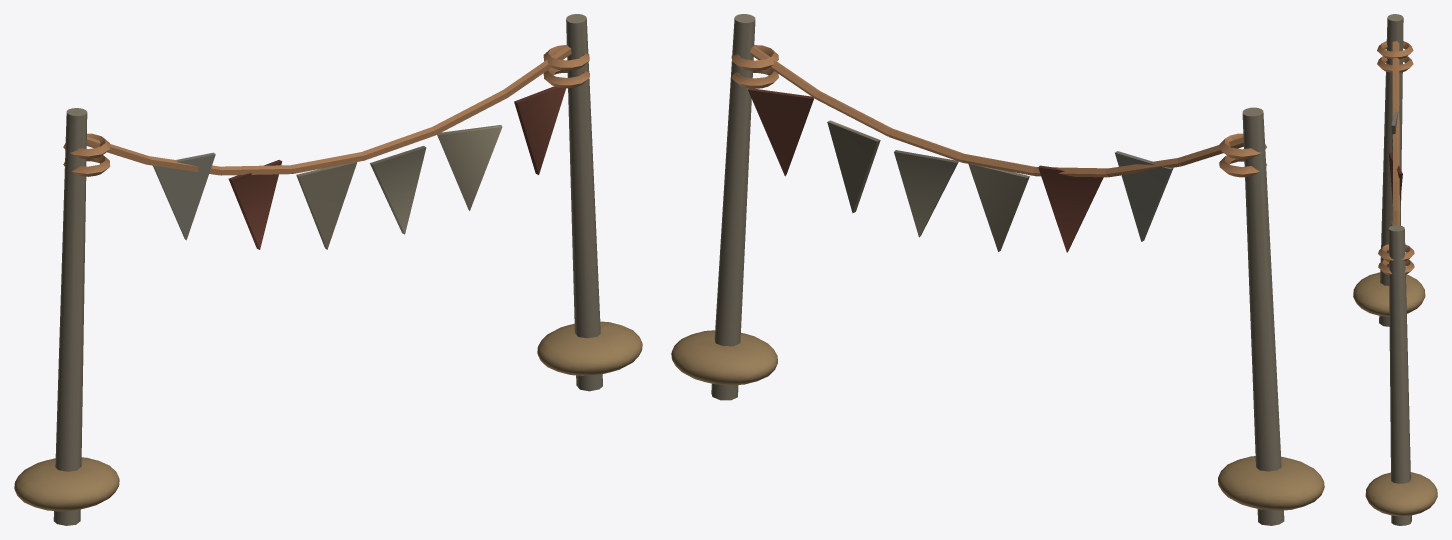
Rendered from keeper_bunting_b_lod1.glb.
3 renders of one model, left to right at view 1: azimuth 30°, elevation 25°; view 2: azimuth 150°, elevation 25°; view 3: azimuth 270°, elevation 25°, orthographic. The views are drawn at different scales.
Visible parts, largest first — view 1: Surface.001; view 2: Surface.001; view 3: Surface.001.
Part boxes in pixels (x1,y1,x2,y2): Surface.001: (14, 14, 642, 525); Surface.001: (671, 14, 1324, 525); Surface.001: (1353, 14, 1437, 525).
Size of the model in its own units: 4.48 by 2.76 by 0.6814.
